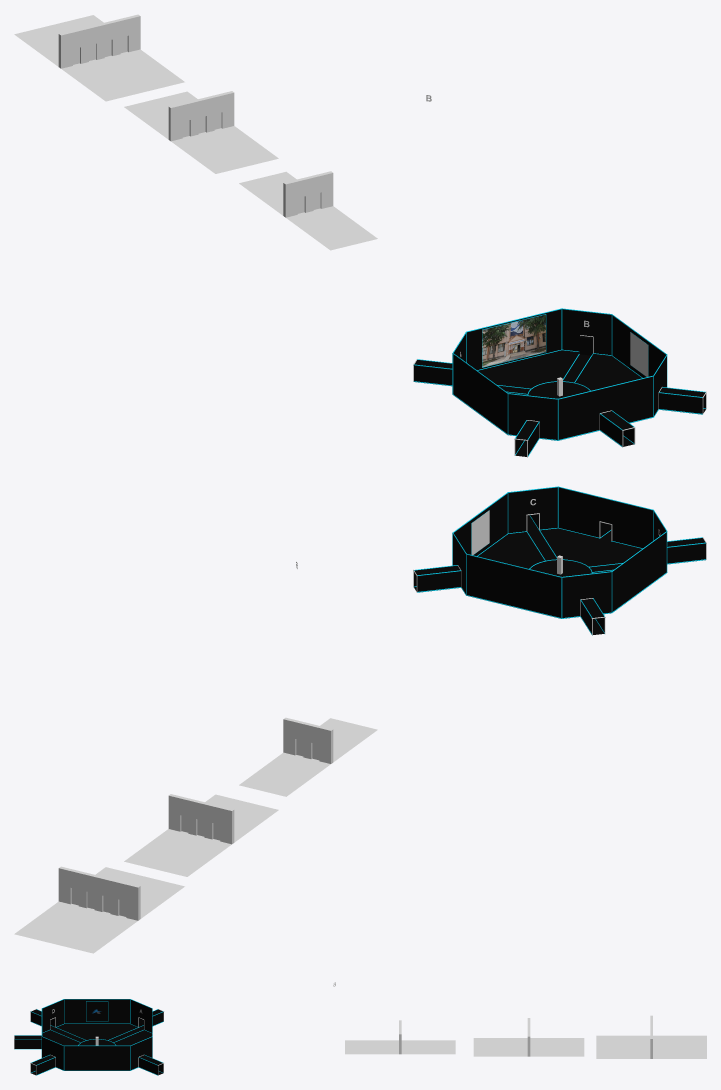
The model's file is Aloo.fbx.
The picture shows the model from 3 angles, top to bottom: view 1: azimuth 30°, elevation 25°; view 2: azimuth 150°, elevation 25°; view 3: azimuth 270°, elevation 25°; orthographic projection. The views are drawn at different scales.
Parts seen in each view (by area): view 1: Plane.007, Plane.002, Plane.001, Plane, Cube.008, Cube.004, Cube.001; view 2: Plane.007, Plane.002, Plane.001, Plane, Cube.008, Cube.004, Cube.001; view 3: Plane.007, Plane.002, Plane.001, Plane.
Boxes of the visible parts, <box> form: Plane.007: <box>413,308,706,457</box>; Plane.002: <box>14,15,184,101</box>; Plane.001: <box>124,91,278,173</box>; Plane: <box>239,171,377,250</box>; Cube.008: <box>58,14,140,68</box>; Cube.004: <box>168,91,234,141</box>; Cube.001: <box>283,171,333,217</box>; Plane.007: <box>413,486,706,635</box>; Plane.002: <box>14,867,184,953</box>; Plane.001: <box>124,794,278,876</box>; Plane: <box>239,718,377,796</box>; Cube.008: <box>58,866,140,920</box>; Cube.004: <box>168,794,234,844</box>; Cube.001: <box>283,717,333,763</box>; Plane.007: <box>14,999,164,1075</box>; Plane.002: <box>596,1035,706,1058</box>; Plane.001: <box>473,1038,584,1056</box>; Plane: <box>345,1040,455,1054</box>.
Size of the model in its own units: 2427 by 1683 by 12534.
